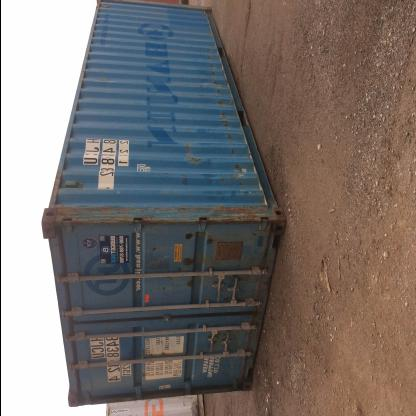Damage: (202, 36, 236, 152), (138, 242, 172, 298), (174, 230, 200, 302), (210, 204, 262, 230), (74, 204, 132, 227), (226, 160, 252, 193), (181, 135, 203, 171)
